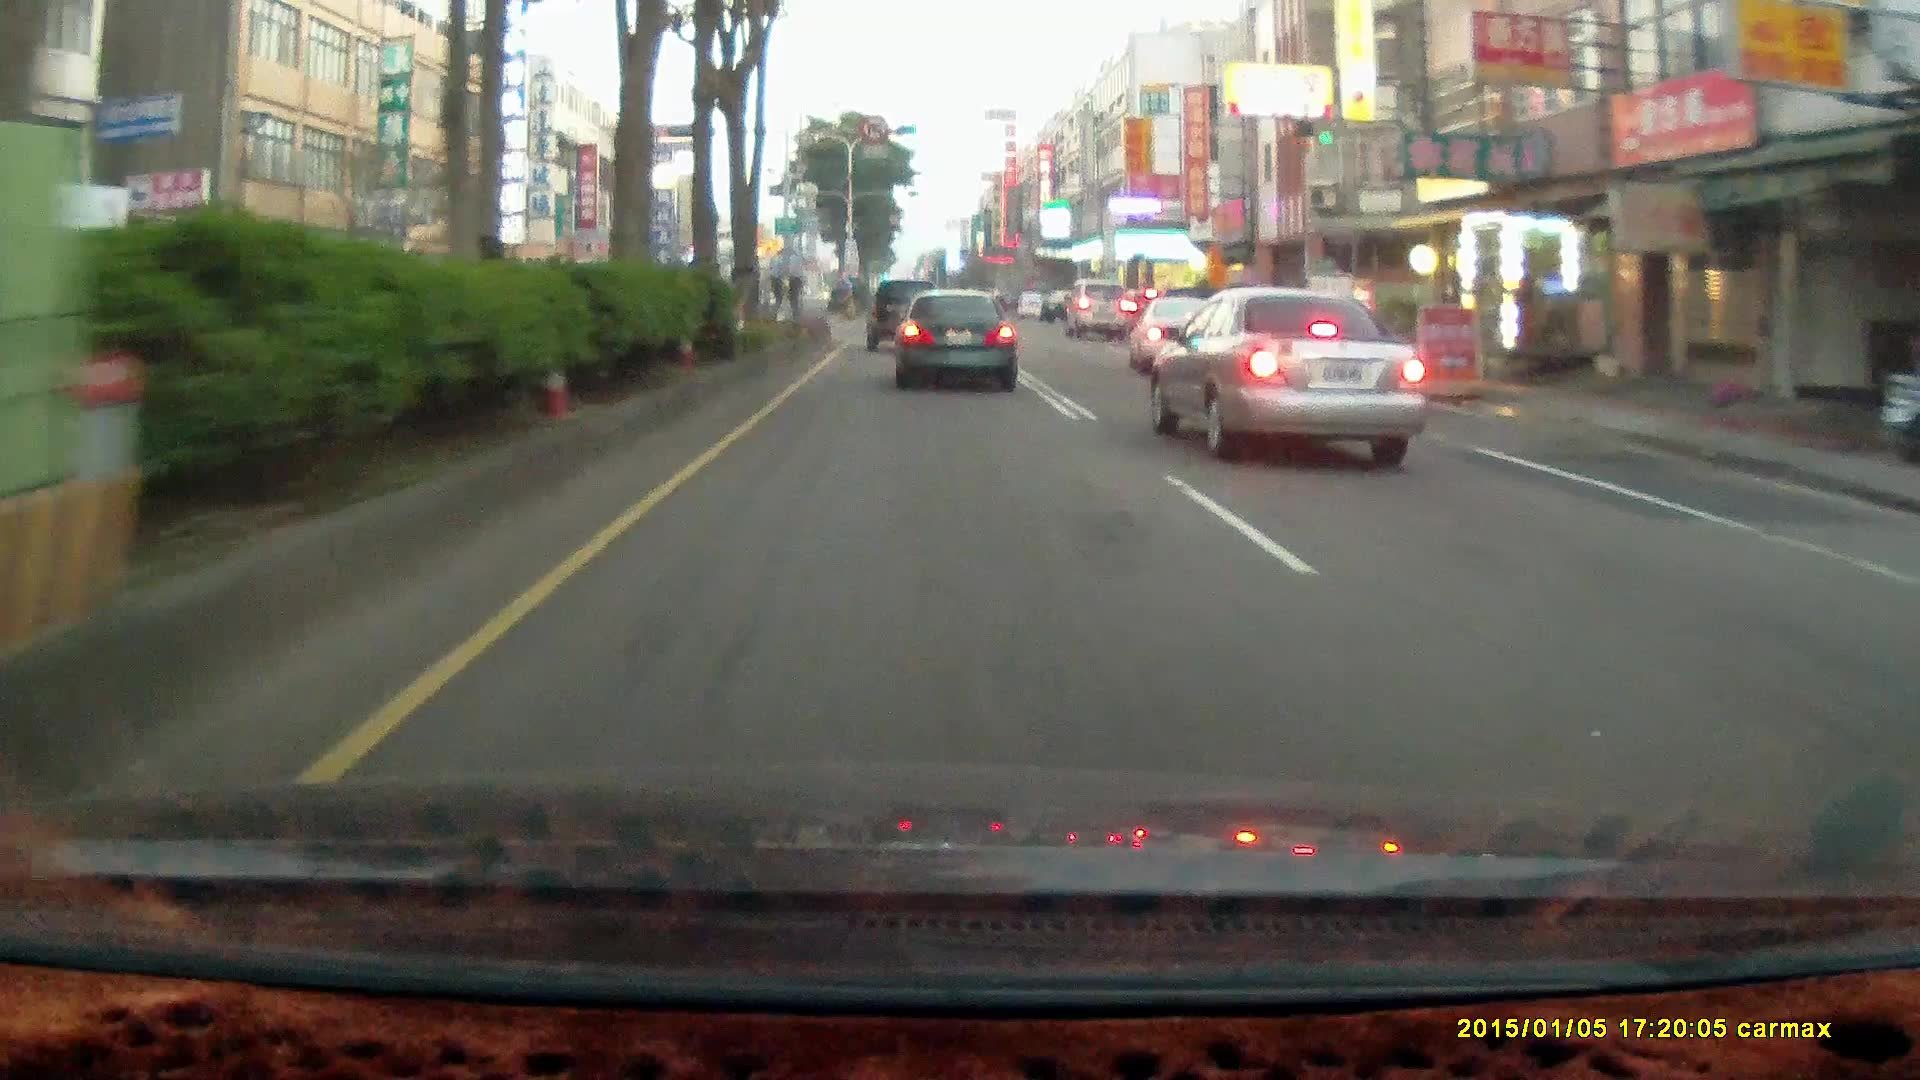vehicle: (1153, 286, 1429, 459), (893, 287, 1021, 398), (894, 289, 1017, 392), (864, 278, 944, 355), (865, 278, 943, 351), (1065, 280, 1134, 343), (1064, 278, 1131, 342), (1040, 287, 1091, 322), (1019, 291, 1042, 318)
